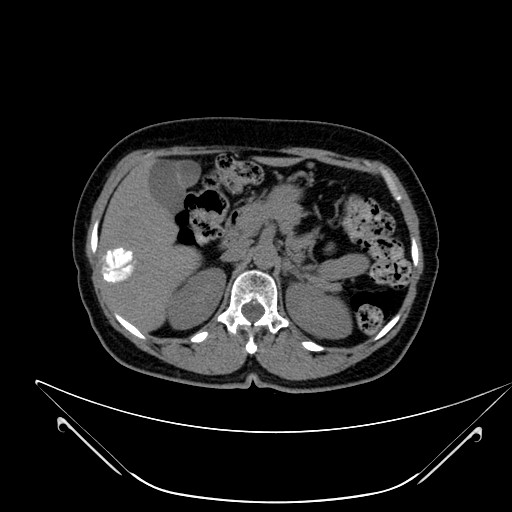vesicula: (146, 158, 187, 218)
